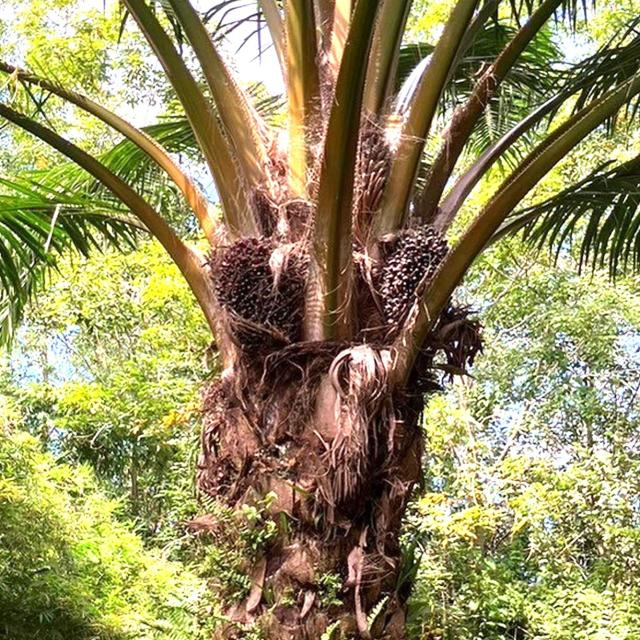ripe: (204, 231, 290, 330)
